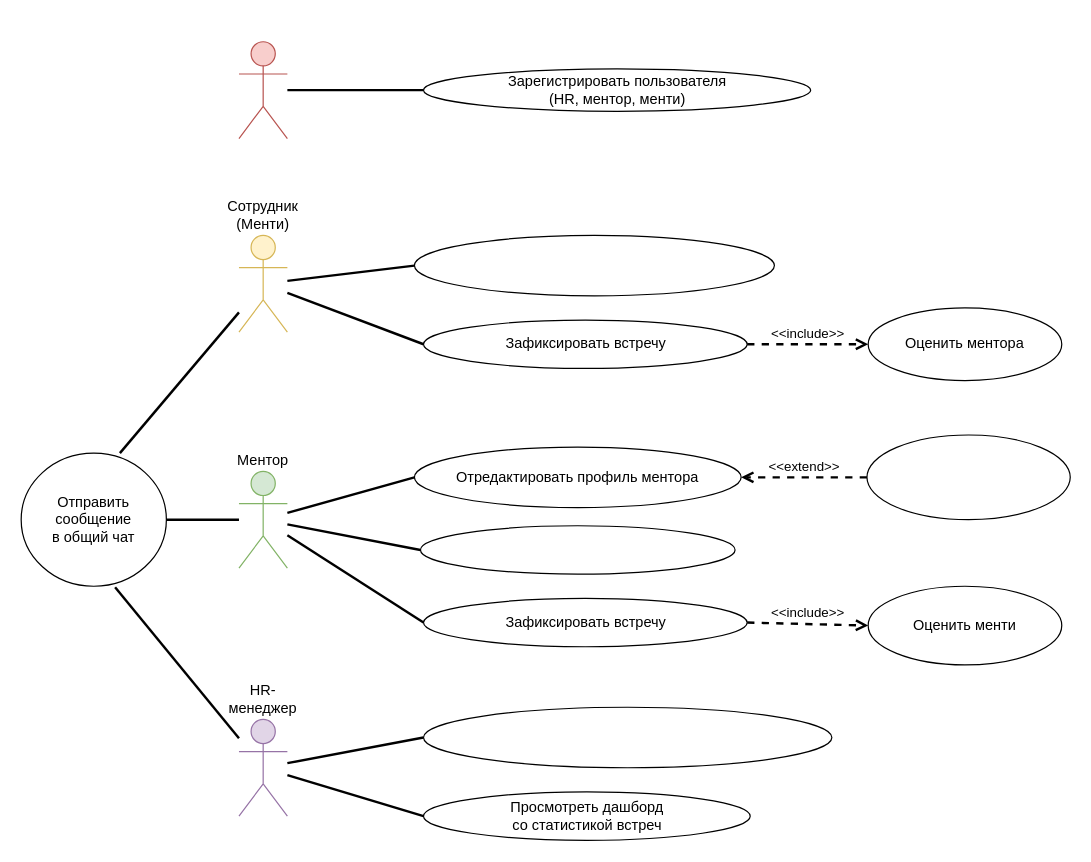
This 1091x862 diagram has some shape labels left out. The centre of each missing label's shape, as x and y in pixels:
Администратор: the point at 262,90
Отправить приглашение ментору для утверждения пары ментор-менти: the point at 627,737
Отредактировать компетенции: the point at 968,477
Подать заявку на менторство с указанием списка компетенций: the point at 593,265
Принять / отклонить заявку на менторство: the point at 577,549
